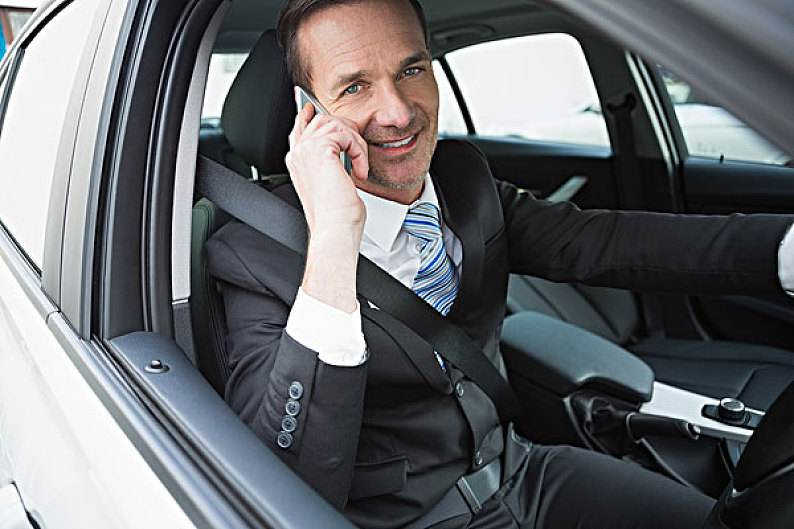calling: (282, 81, 373, 234)
